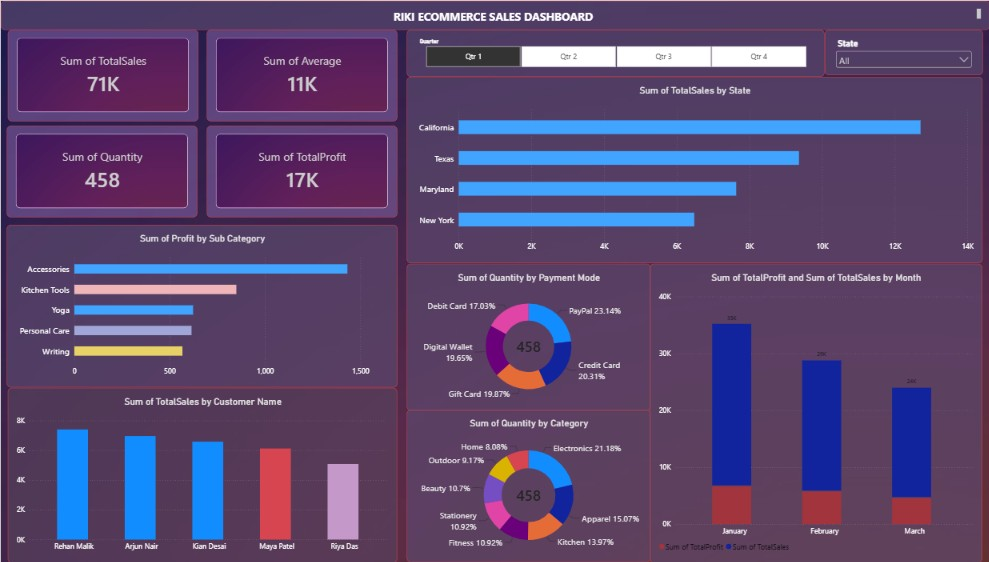

The page's visual inventory and layout, read from the dashboard file:
{"tool":"powerbi","page":{"name":"Page 1","canvas":[1920,1080],"ordinal":0},"visuals":[{"type":"textbox","box":[10,0,280,280],"z":0},{"type":"textbox","box":[10,290,280,280],"z":1000},{"type":"textbox","box":[10,580,280,280],"z":2000},{"type":"textbox","box":[10,870,280,210],"z":3000},{"type":"columnChart","fields":{"Category":["Orders.Order Date.Variation.Date Hierarchy.Month"],"Y":["Sum(Details.TotalProfit)","Sum(Details.TotalSales)"]},"box":[1263.6,525.5,623.6,532.7],"z":4000},{"type":"barChart","fields":{"Category":["Details.Sub Category"],"Y":["Sum(Details.Profit)"]},"box":[10.9,430.9,729.1,312.7],"z":5000},{"type":"donutChart","fields":{"Category":["Details.Category"],"Y":["Sum(Details.Quantity)"]},"box":[805.5,787.3,443.6,292.7],"z":6000},{"type":"donutChart","fields":{"Category":["Details.Payment Mode"],"Y":["Sum(Details.Quantity)"]},"box":[805.5,505.5,443.6,281.8],"z":7000},{"type":"cardVisual","fields":{"Data":["Sum(Details.TotalSales)"]},"box":[10.9,60,366,176],"z":8000},{"type":"cardVisual","fields":{"Data":["Sum(Details.TotalProfit)"]},"box":[396.4,240,366,176],"z":9000},{"type":"cardVisual","fields":{"Data":["Sum(Details.Quantity)"]},"box":[10.9,240,366,176],"z":10000},{"type":"cardVisual","fields":{"Data":["Sum(Details.Average)"]},"box":[396.4,60,366,176],"z":11000},{"type":"barChart","fields":{"Category":["Orders.State"],"Y":["Sum(Details.TotalSales)"]},"box":[805.5,147.3,1081.8,358.2],"z":12000},{"type":"columnChart","fields":{"Category":["Orders.Customer Name"],"Y":["Sum(Details.TotalSales)"]},"box":[12.7,758.2,727.3,321.8],"z":13000},{"type":"textbox","box":[0,0,1920,56.4],"z":14000},{"type":"slicer","fields":{"Values":["Orders.Order Date.Variation.Date Hierarchy.Quarter"]},"box":[805.5,60,778.2,87.3],"z":15000},{"type":"slicer","fields":{"Values":["Orders.State"]},"box":[1603.6,56.4,283.6,87.3],"z":16000}]}

Visuals, with their boxes in screenshot pixels (x1, y1, x2, y2), scaled from the page's 1920x1080 canvas onto the 989x562 screenshot:
textbox: pyautogui.locateOnScreen(5, 0, 149, 146)
textbox: pyautogui.locateOnScreen(5, 151, 149, 297)
textbox: pyautogui.locateOnScreen(5, 302, 149, 448)
textbox: pyautogui.locateOnScreen(5, 453, 149, 561)
columnChart - Orders.Order Date.Variation.Date Hierarchy.Month x Sum(Details.TotalProfit): pyautogui.locateOnScreen(651, 273, 972, 551)
barChart - Details.Sub Category x Sum(Details.Profit): pyautogui.locateOnScreen(6, 224, 381, 387)
donutChart - Details.Category x Sum(Details.Quantity): pyautogui.locateOnScreen(415, 410, 643, 561)
donutChart - Details.Payment Mode x Sum(Details.Quantity): pyautogui.locateOnScreen(415, 263, 643, 410)
cardVisual - Sum(Details.TotalSales): pyautogui.locateOnScreen(6, 31, 194, 123)
cardVisual - Sum(Details.TotalProfit): pyautogui.locateOnScreen(204, 125, 393, 216)
cardVisual - Sum(Details.Quantity): pyautogui.locateOnScreen(6, 125, 194, 216)
cardVisual - Sum(Details.Average): pyautogui.locateOnScreen(204, 31, 393, 123)
barChart - Orders.State x Sum(Details.TotalSales): pyautogui.locateOnScreen(415, 77, 972, 263)
columnChart - Orders.Customer Name x Sum(Details.TotalSales): pyautogui.locateOnScreen(7, 395, 381, 561)
textbox: pyautogui.locateOnScreen(0, 0, 988, 29)
slicer - Orders.Order Date.Variation.Date Hierarchy.Quarter: pyautogui.locateOnScreen(415, 31, 816, 77)
slicer - Orders.State: pyautogui.locateOnScreen(826, 29, 972, 75)
